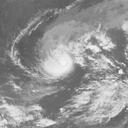cyclone: (34, 20, 85, 83)
